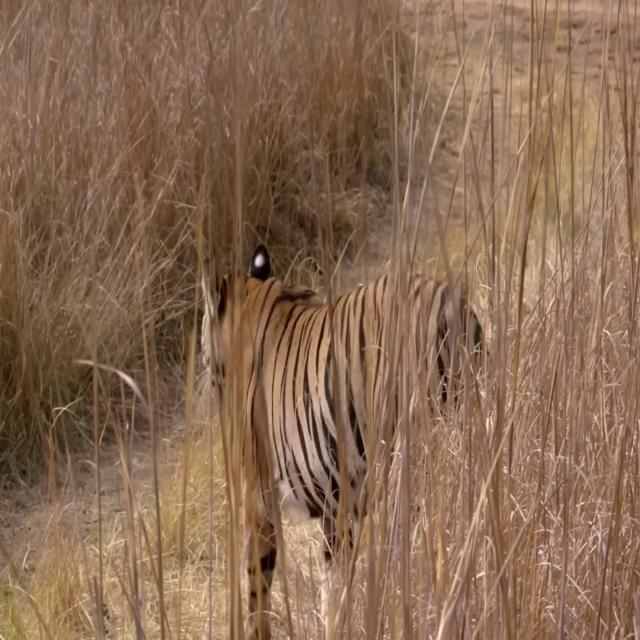tiger: (201, 242, 491, 640)
